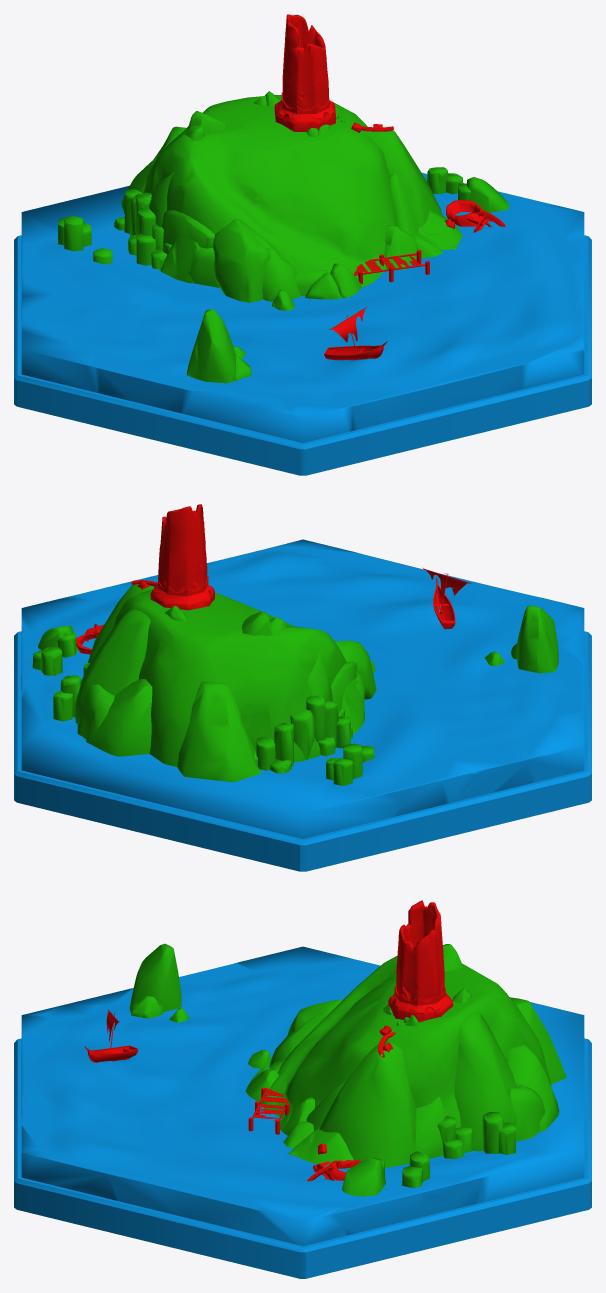
Rendered from OceanDeath.fbx.
The picture shows the model from 3 angles, top to bottom: view 1: azimuth 30°, elevation 25°; view 2: azimuth 150°, elevation 25°; view 3: azimuth 270°, elevation 25°; orthographic projection.
Visible parts, largest first — view 1: Water_low, MainHigh_low, Light_low, Boat_low, Dock_low; view 2: Water_low, MainHigh_low, Light_low, Boat_low; view 3: Water_low, MainHigh_low, Light_low, Boat_low, Dock_low.
Part boxes in pixels (x1=…): Water_low: x1=14, y1=173, x2=591, y2=475; MainHigh_low: x1=58, y1=91, x2=509, y2=383; Light_low: x1=274, y1=14, x2=505, y2=232; Boat_low: x1=324, y1=306, x2=387, y2=360; Dock_low: x1=354, y1=253, x2=425, y2=275; Water_low: x1=14, y1=539, x2=591, y2=871; MainHigh_low: x1=32, y1=584, x2=558, y2=785; Light_low: x1=76, y1=504, x2=214, y2=654; Boat_low: x1=423, y1=568, x2=471, y2=629; Water_low: x1=14, y1=946, x2=591, y2=1278; MainHigh_low: x1=129, y1=943, x2=566, y2=1196; Light_low: x1=307, y1=900, x2=453, y2=1181; Boat_low: x1=84, y1=1009, x2=138, y2=1062; Dock_low: x1=252, y1=1087, x2=288, y2=1120.
Bounding box in the file's own units: 808 × 350 × 703.
